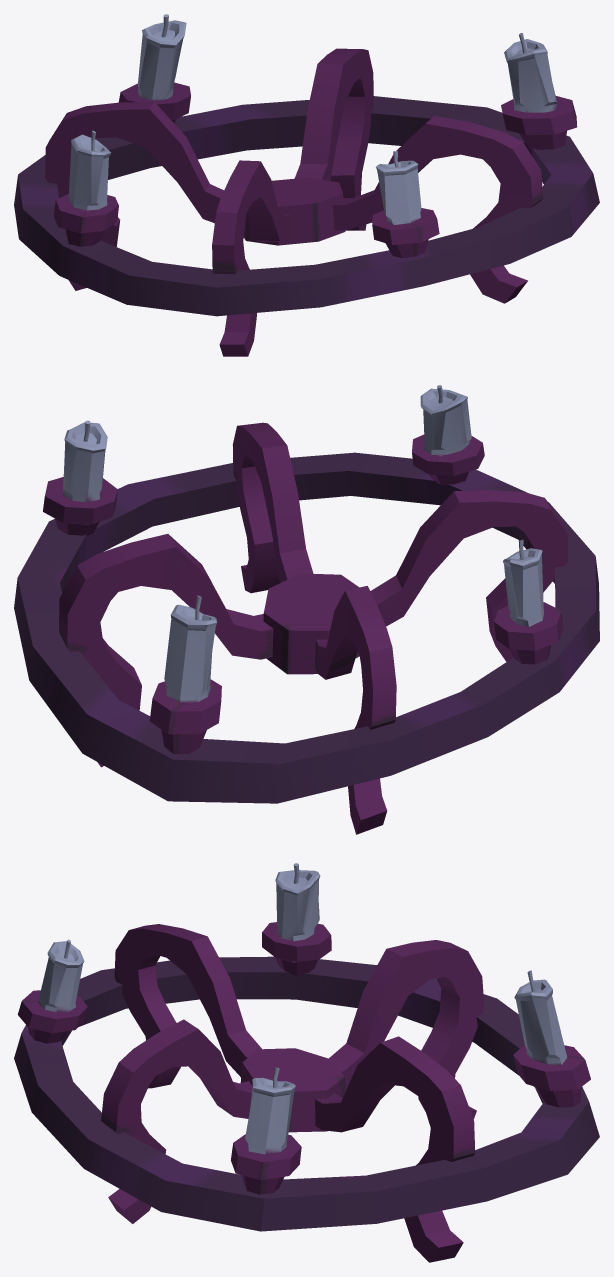
Rendered from only chandelier.fbx.
3 views of the same model, one above another, from view 1: azimuth 30°, elevation 25°; view 2: azimuth 150°, elevation 25°; view 3: azimuth 270°, elevation 25° (orthographic). The views are drawn at different scales.
Visible parts, largest first — view 1: Chandelier; view 2: Chandelier; view 3: Chandelier.
Part boxes in pixels (box(x1,y1,x2,y2)): Chandelier: box(14, 14, 599, 356); Chandelier: box(14, 385, 599, 834); Chandelier: box(14, 863, 599, 1262).
Size of the model in its own units: 124 by 59.36 by 124.
